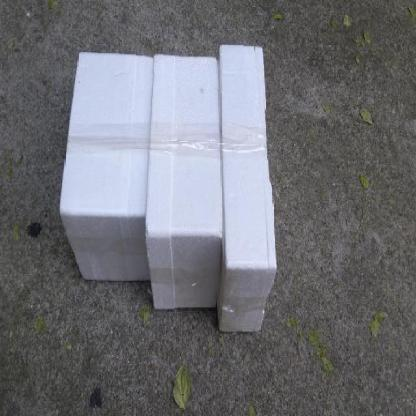Glass Cup: (60, 49, 153, 280), (59, 52, 153, 280), (146, 54, 222, 309), (146, 54, 222, 307), (217, 44, 277, 334), (217, 44, 277, 331)
